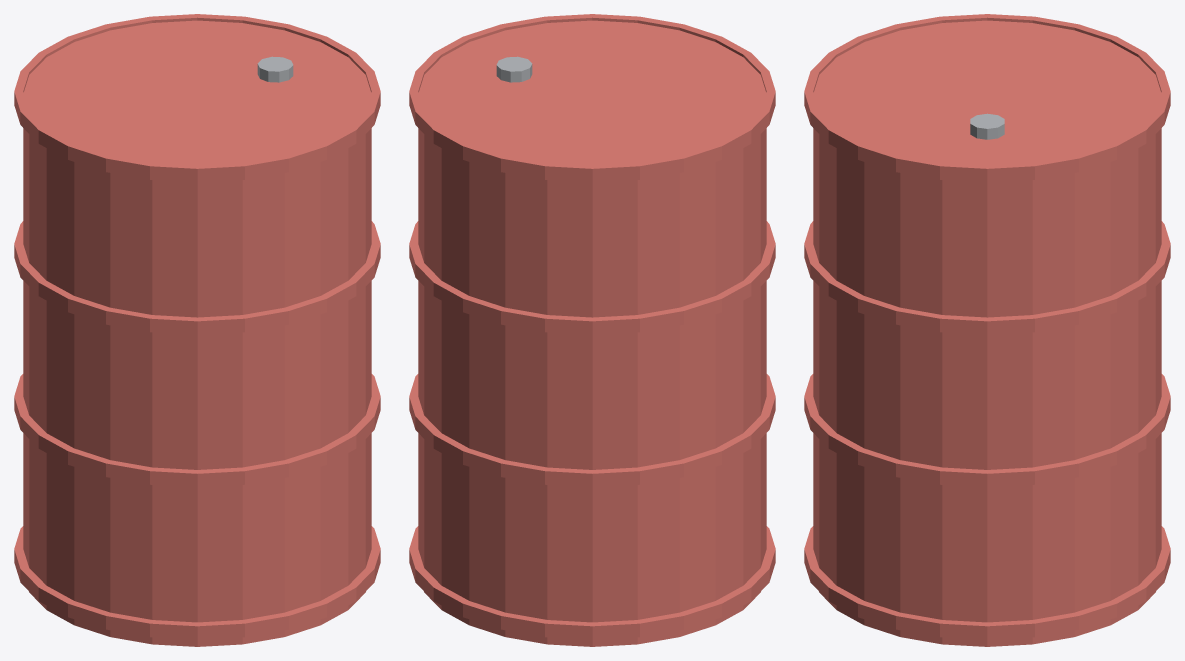
The model's file is drum_r.glb.
3 views of the same model, side by side, from view 1: azimuth 30°, elevation 25°; view 2: azimuth 150°, elevation 25°; view 3: azimuth 270°, elevation 25° (orthographic).
Parts seen in each view (by area): view 1: drum_r_tool_r, drum_r_steel; view 2: drum_r_tool_r, drum_r_steel; view 3: drum_r_tool_r, drum_r_steel.
Part boxes in pixels (x1,y1,x2,y2): drum_r_tool_r: (14,14,380,646); drum_r_steel: (257,56,293,82); drum_r_tool_r: (409,14,775,646); drum_r_steel: (496,56,532,82); drum_r_tool_r: (804,14,1170,646); drum_r_steel: (970,113,1004,139).
Bounding box in the file's own units: 0.61 × 0.9 × 0.61.
